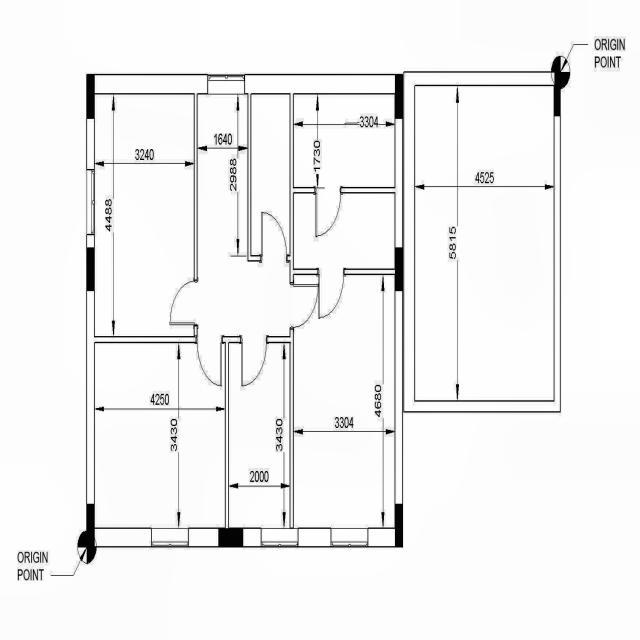Column: (393, 72, 403, 120), (552, 72, 562, 116), (86, 74, 95, 122), (394, 503, 404, 546), (219, 530, 244, 547), (87, 501, 96, 546), (86, 248, 95, 292), (394, 246, 402, 290)
Door: (234, 338, 272, 393), (164, 273, 198, 329), (311, 188, 343, 242), (193, 333, 223, 389), (292, 278, 320, 336), (256, 207, 287, 259), (322, 273, 344, 325)
Window: (80, 164, 97, 242), (150, 525, 190, 552), (202, 70, 246, 94), (262, 524, 300, 548), (330, 526, 368, 550)
